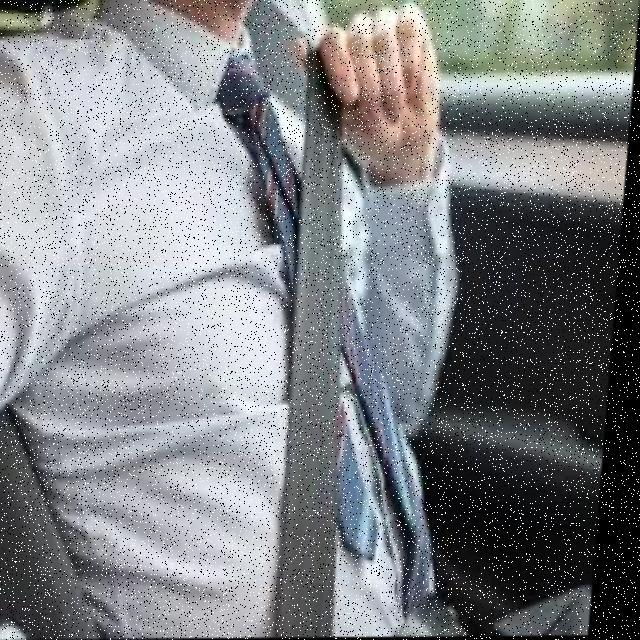seatbelt: (145, 17, 498, 639)
